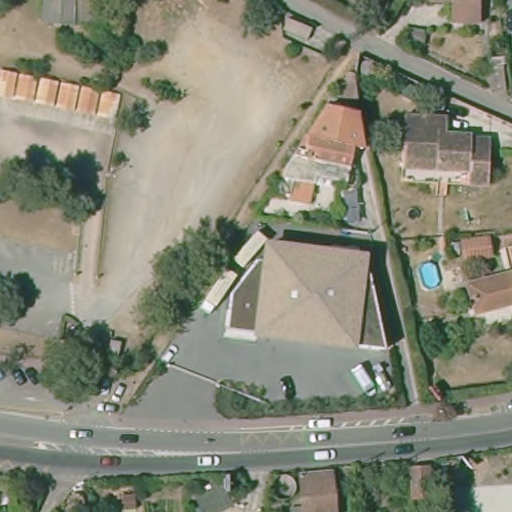pool: (414, 257, 444, 291)
